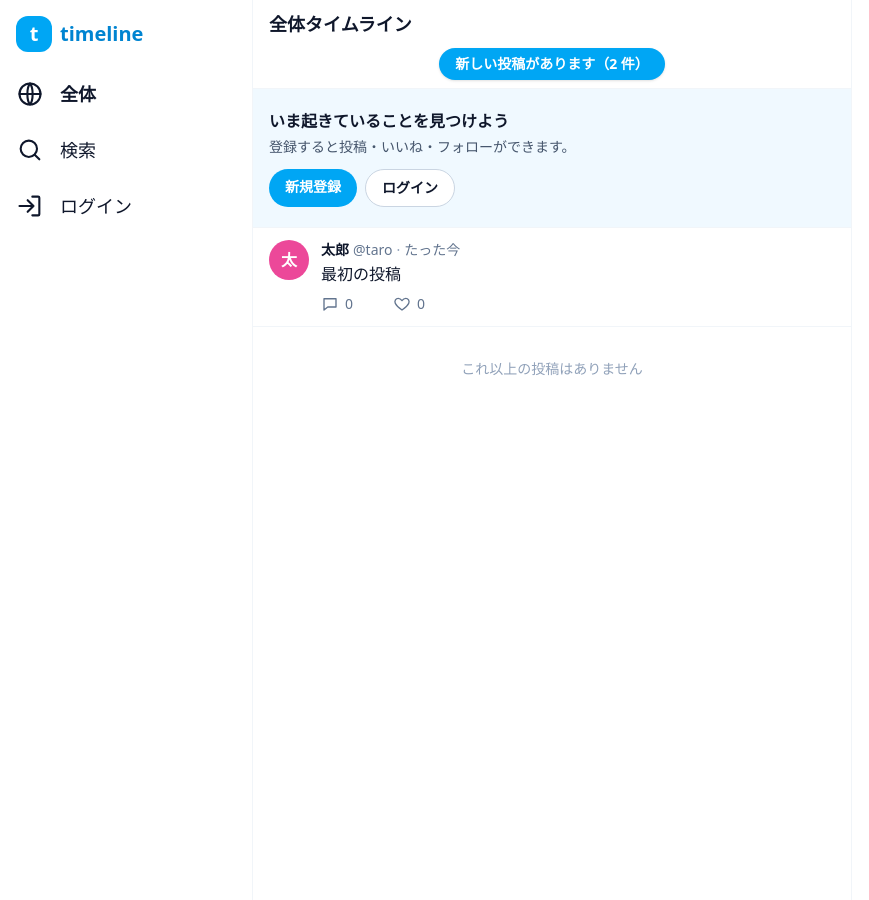
it: 新着表示（F-22） › 30 秒ごとに新着を確認し、タップで先頭から取り直す
Expected: the text "最初の投稿" is shown, [321,263,401,285]
Click the button "新しい投稿があります（2 件）": point(552, 64) [439,48,665,80]
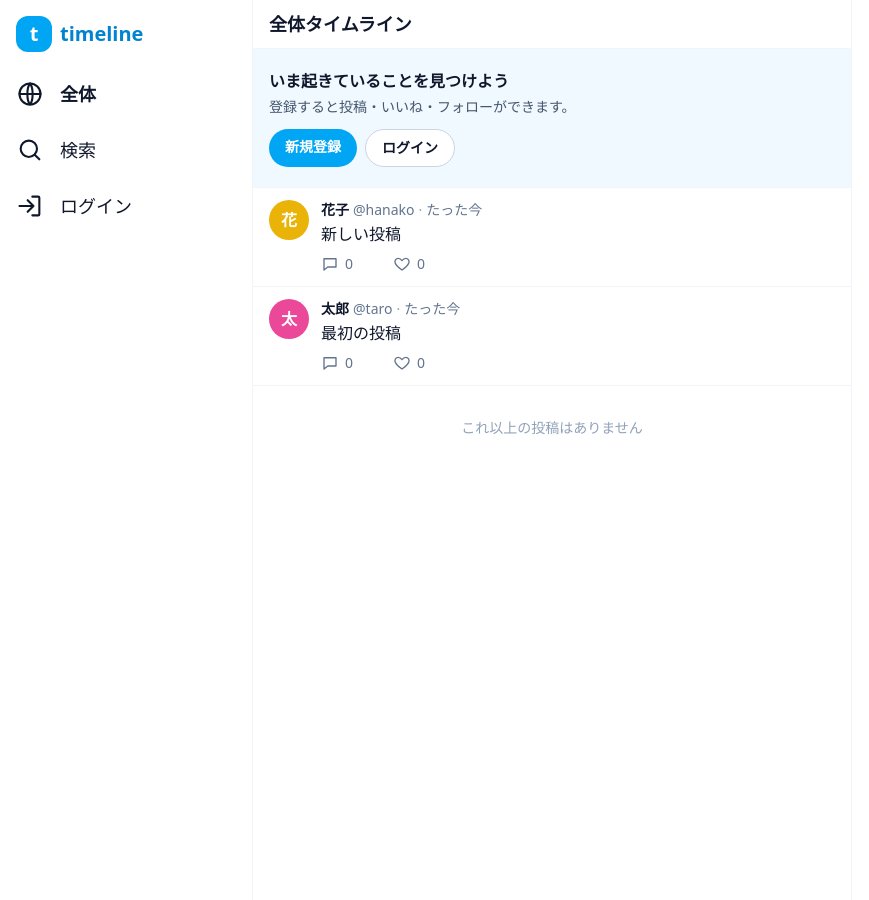
Expected: the text "新しい投稿" is shown, [321,223,401,245]
Result: the button "新しい投稿があります" is gone
